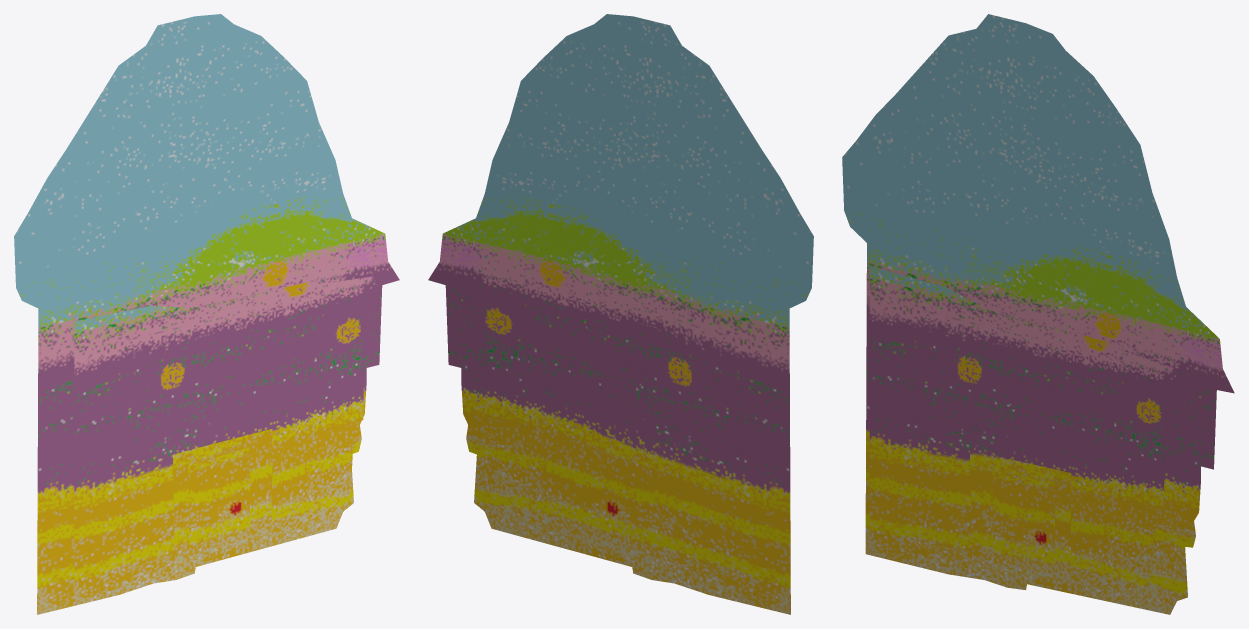
File: village.fbx_village_house_2.fbx
3 views of the same model, side by side, from view 1: azimuth 30°, elevation 25°; view 2: azimuth 150°, elevation 25°; view 3: azimuth 330°, elevation 25° (orthographic).
Parts seen in each view (by area): view 1: roof.003, house outline.003, house.003, door.003; view 2: house.003, roof.003; view 3: roof.003, house outline.003, house.003, door.003.
Part boxes in pixels (x1,y1,x2,y2): roof.003: (14,14,399,307); house outline.003: (74,276,379,600); house.003: (37,246,382,614); door.003: (188,447,250,558); house.003: (445,254,790,614); roof.003: (428,14,813,308); roof.003: (842,14,1234,393); house outline.003: (869,266,1180,604); house.003: (865,234,1216,614); door.003: (992,470,1055,577).
Size of the model in its own units: 1282 by 1779 by 95.61.
